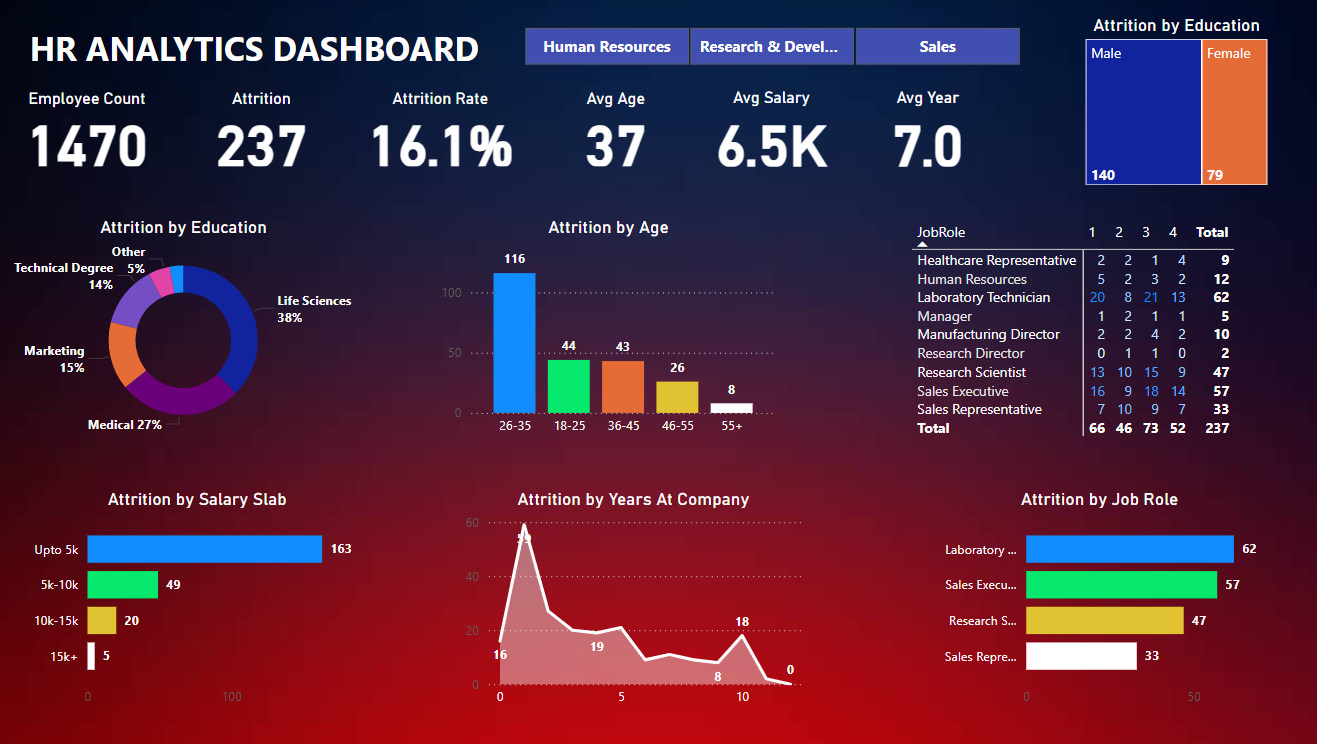

The page's visual inventory and layout, read from the dashboard file:
{"tool":"powerbi","page":{"name":"Page 1","canvas":[1280,720],"ordinal":0},"visuals":[{"type":"card","title":"Employee Count","fields":{"Values":["CountNonNull(PB HR.EmpID)"]},"box":[18.1,88.1,147.2,79.6],"z":0},{"type":"card","title":"Attrition","fields":{"Values":["Sum(PB HR.AttritionCustom)"]},"box":[185.8,88.1,148.4,79.6],"z":1000},{"type":"card","title":"Attrition Rate","fields":{"Values":["PB HR.AttritionRate"]},"box":[351.3,87.8,163.3,79.6],"z":2000},{"type":"card","title":"Avg Age","fields":{"Values":["Avg(PB HR.Age)"]},"box":[526.9,87.8,149.6,79.6],"z":3000},{"type":"card","title":"Avg Salary","fields":{"Values":["Avg(PB HR.MonthlyIncome)"]},"box":[676.5,86.4,150.9,81],"z":4000},{"type":"card","title":"Avg Year","fields":{"Values":["Avg(PB HR.YearsAtCompany)"]},"box":[827.4,86.4,150.9,81],"z":5000},{"type":"donutChart","title":"Attrition by Education","fields":{"Category":["PB HR.EducationField"],"Y":["Sum(PB HR.AttritionCount)"]},"box":[17.8,211.3,333.4,219.6],"z":6000},{"type":"columnChart","title":"Attrition by Age","fields":{"Category":["PB HR.AgeGroup"],"Y":["Sum(PB HR.AttritionCount)"]},"box":[428.1,211.3,333.4,219.6],"z":7000},{"type":"pivotTable","fields":{"Rows":["PB HR.JobRole"],"Columns":["PB HR.JobSatisfaction"],"Values":["Sum(PB HR.AttritionCount)"]},"box":[883.7,211.3,333.4,219.6],"z":8000},{"type":"barChart","title":"Attrition by Salary Slab","fields":{"Category":["PB HR.SalarySlab"],"Y":["Sum(PB HR.AttritionCount)"]},"box":[31.6,473.4,333.4,219.6],"z":9000},{"type":"barChart","title":"Attrition by Job Role","fields":{"Category":["PB HR.JobRole"],"Y":["Sum(PB HR.AttritionCount)"]},"box":[902.9,473.4,333.4,219.6],"z":10000},{"type":"areaChart","title":"Attrition by Years At Company","fields":{"Category":["PB HR.YearsAtCompany"],"Y":["Sum(PB HR.AttritionCount)"]},"box":[452.8,473.4,333.4,219.6],"z":11000},{"type":"treemap","title":"Attrition by Education","fields":{"Group":["PB HR.Gender"],"Values":["Sum(PB HR.AttritionCount)"]},"box":[1051.1,15.1,185.2,170.2],"z":12000},{"type":"textbox","box":[31.6,22,459.7,57.6],"z":13000},{"type":"slicer","fields":{"Values":["PB HR.Department"]},"box":[488.5,22,526.9,49.4],"z":14000}]}

Visuals, with their boxes in screenshot pixels (x1, y1, x2, y2), scaled from the page's 1280x720 canvas onto the 1317x744 screenshot:
"Employee Count" card: region(19, 91, 170, 173)
"Attrition" card: region(191, 91, 344, 173)
"Attrition Rate" card: region(361, 91, 529, 173)
"Avg Age" card: region(542, 91, 696, 173)
"Avg Salary" card: region(696, 89, 851, 173)
"Avg Year" card: region(851, 89, 1007, 173)
"Attrition by Education" donutChart: region(18, 218, 361, 445)
"Attrition by Age" columnChart: region(440, 218, 784, 445)
pivotTable - PB HR.JobRole x PB HR.JobSatisfaction: region(909, 218, 1252, 445)
"Attrition by Salary Slab" barChart: region(33, 489, 376, 716)
"Attrition by Job Role" barChart: region(929, 489, 1272, 716)
"Attrition by Years At Company" areaChart: region(466, 489, 809, 716)
"Attrition by Education" treemap: region(1081, 16, 1272, 191)
textbox: region(33, 23, 506, 82)
slicer - PB HR.Department: region(503, 23, 1045, 74)
